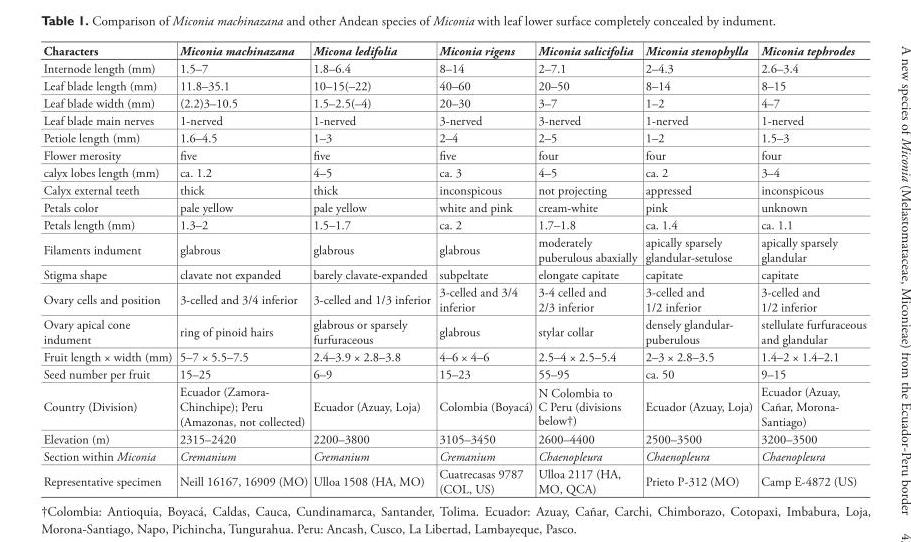table: (43, 42, 866, 496)
table column: (176, 42, 310, 496), (43, 42, 176, 496), (310, 42, 435, 496), (641, 42, 757, 496), (757, 42, 866, 496), (535, 42, 641, 496), (435, 42, 535, 496)
table column header: (43, 42, 866, 59)
table row: (43, 382, 866, 430), (43, 315, 866, 348), (43, 233, 866, 265), (43, 283, 866, 315), (43, 464, 866, 496), (43, 76, 866, 94), (43, 111, 866, 129), (43, 163, 866, 181), (43, 198, 866, 216), (43, 265, 866, 283), (43, 42, 866, 59), (43, 59, 866, 76), (43, 94, 866, 111), (43, 129, 866, 146), (43, 146, 866, 163), (43, 181, 866, 198), (43, 216, 866, 233), (43, 348, 866, 365), (43, 365, 866, 382), (43, 430, 866, 447), (43, 447, 866, 464)
